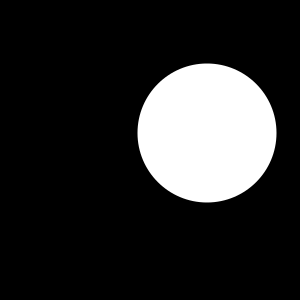rectangle: (137, 64, 276, 202), (164, 92, 241, 169)
